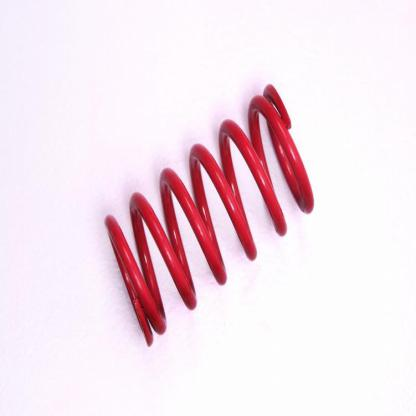FOD: (100, 81, 317, 350)
